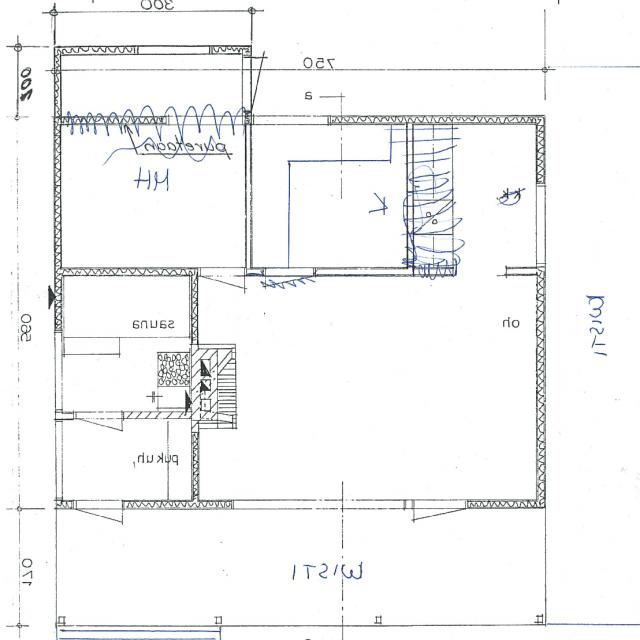door: (242, 57, 303, 111), (415, 500, 466, 563), (77, 500, 122, 557), (76, 412, 122, 467), (201, 267, 245, 322)
